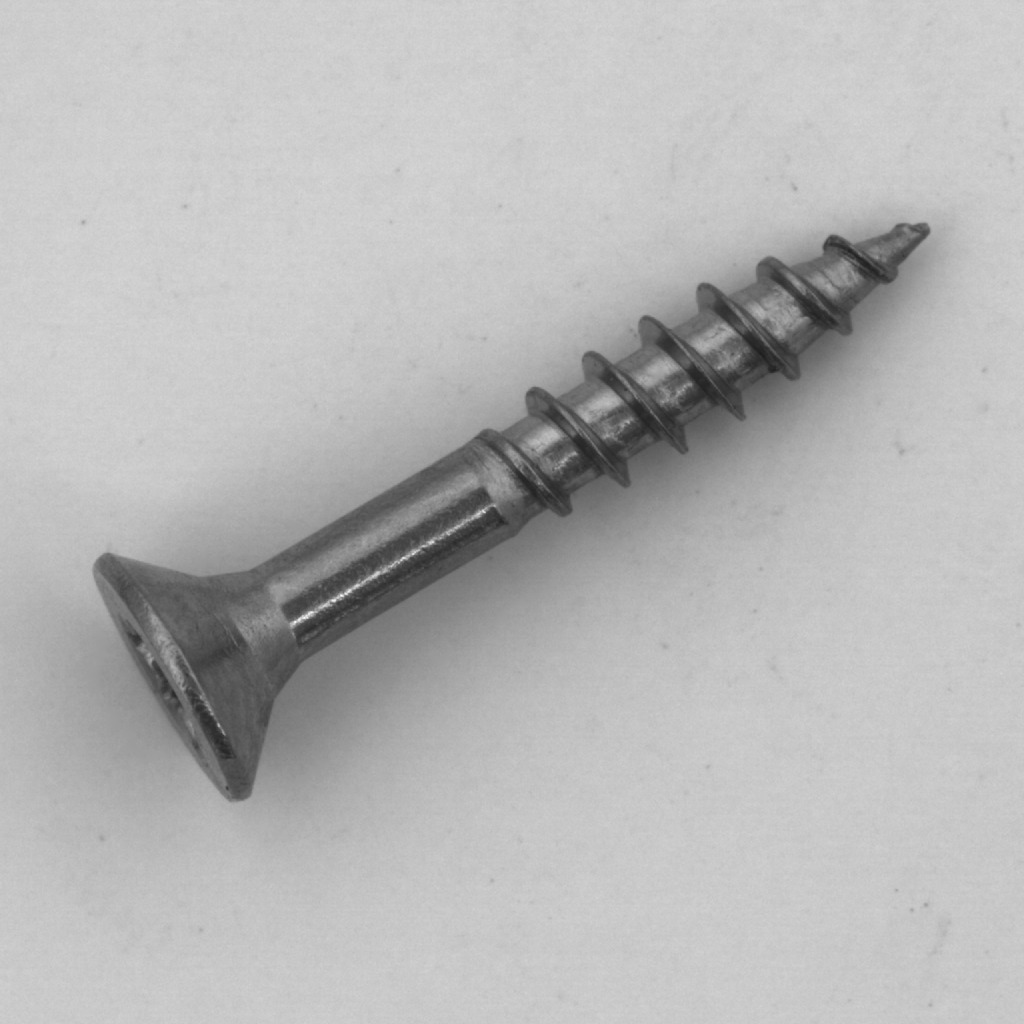good: (66, 186, 945, 839)
